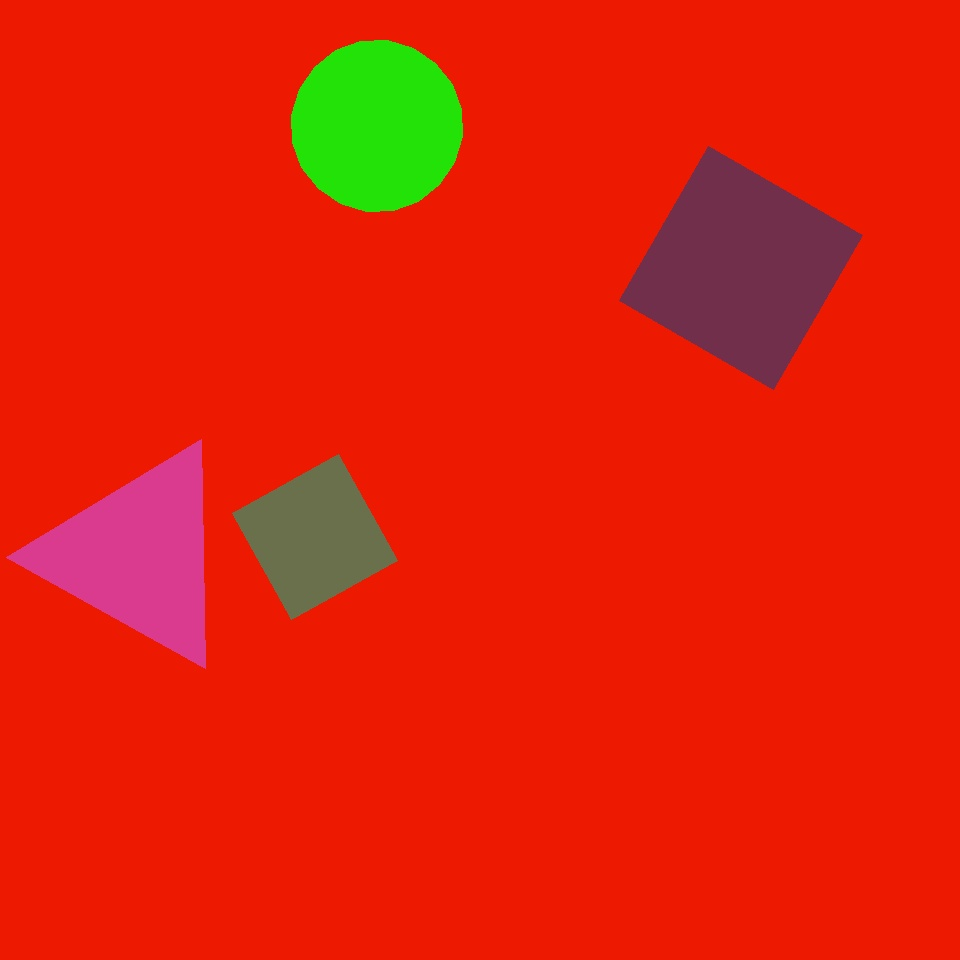circle: (91, 520, 408, 793), (38, 440, 237, 670), (372, 21, 561, 209)
square: (620, 146, 862, 390), (232, 454, 398, 620), (103, 452, 216, 565)
triangle: (251, 91, 540, 381), (610, 458, 842, 690), (505, 317, 732, 543), (292, 40, 462, 212)
